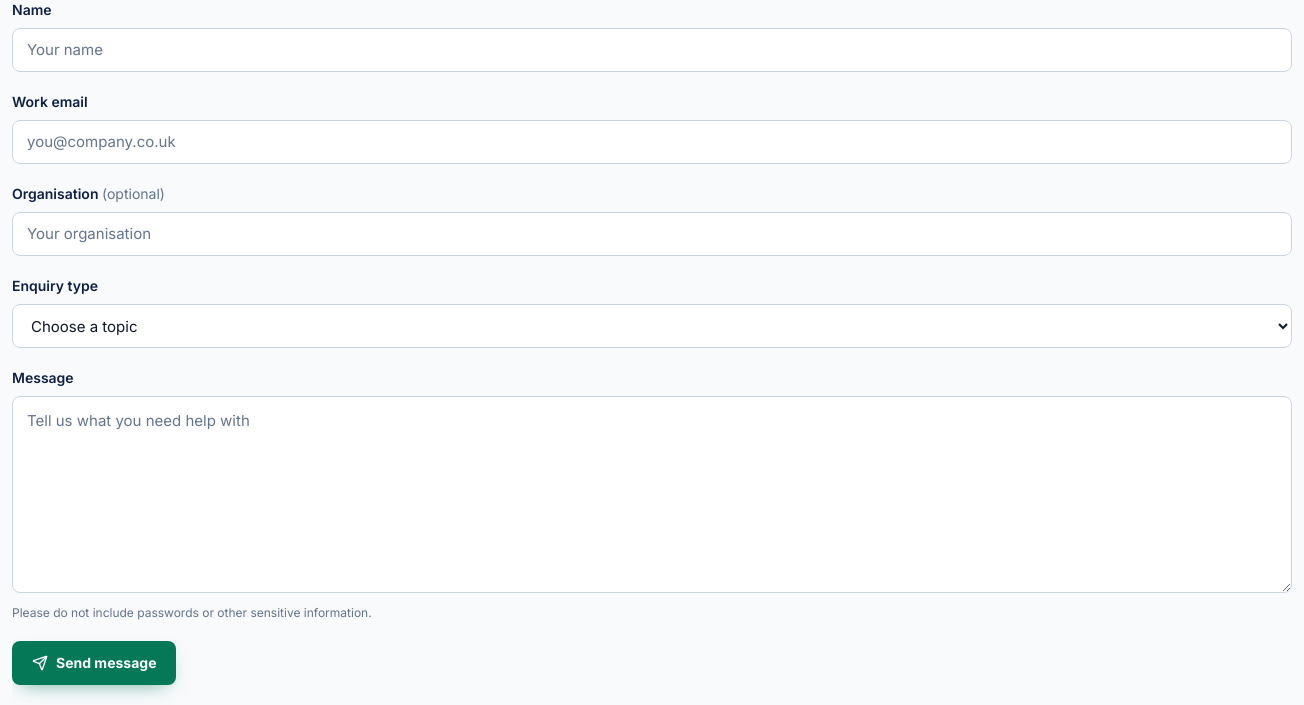
Test: ContactForm › announces success and resets the fields after delivery
In the field labelled "Name": x=652, y=50 [12, 28, 1292, 72], type "Aisha Rahman"
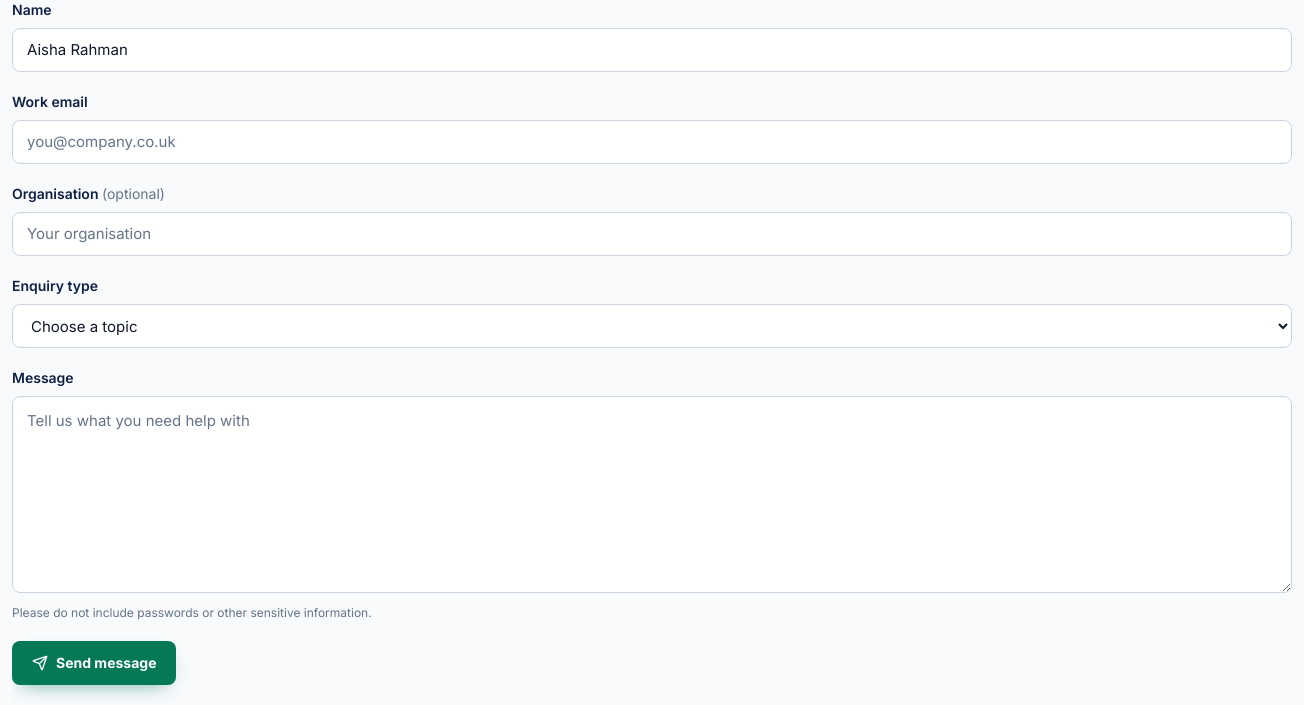
In the field labelled "Work email": x=652, y=142 [12, 120, 1292, 164], type "aisha@example.co.uk"
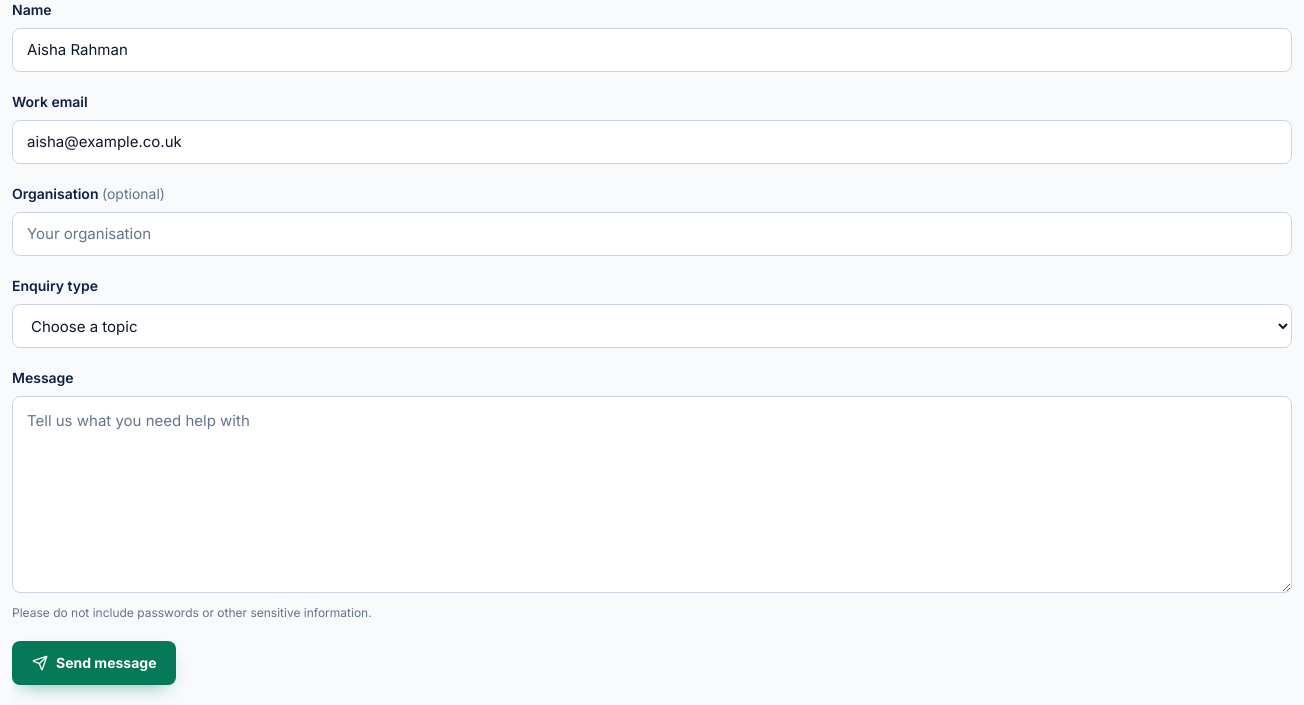
In the text box labelled "Message": x=652, y=494 [12, 396, 1292, 593], type "Please help us understand our latest readiness results."
(page scrolled)
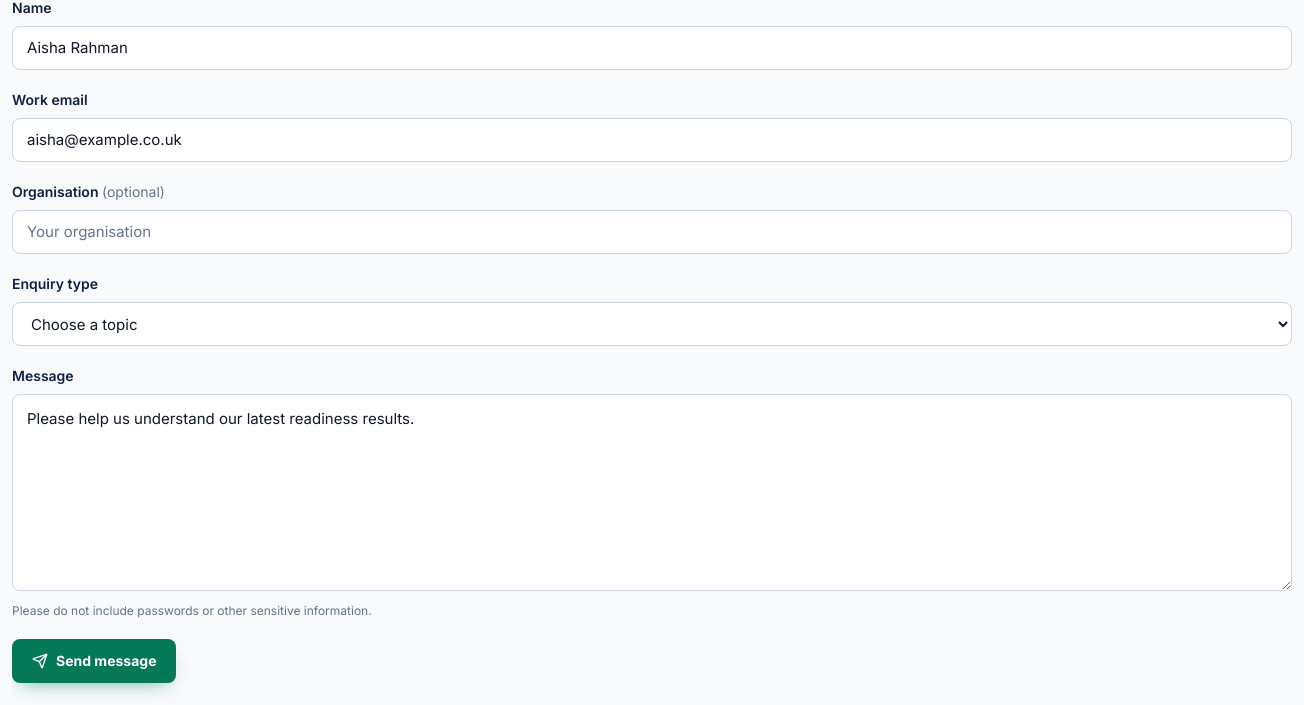
Submit the form named "Send message"
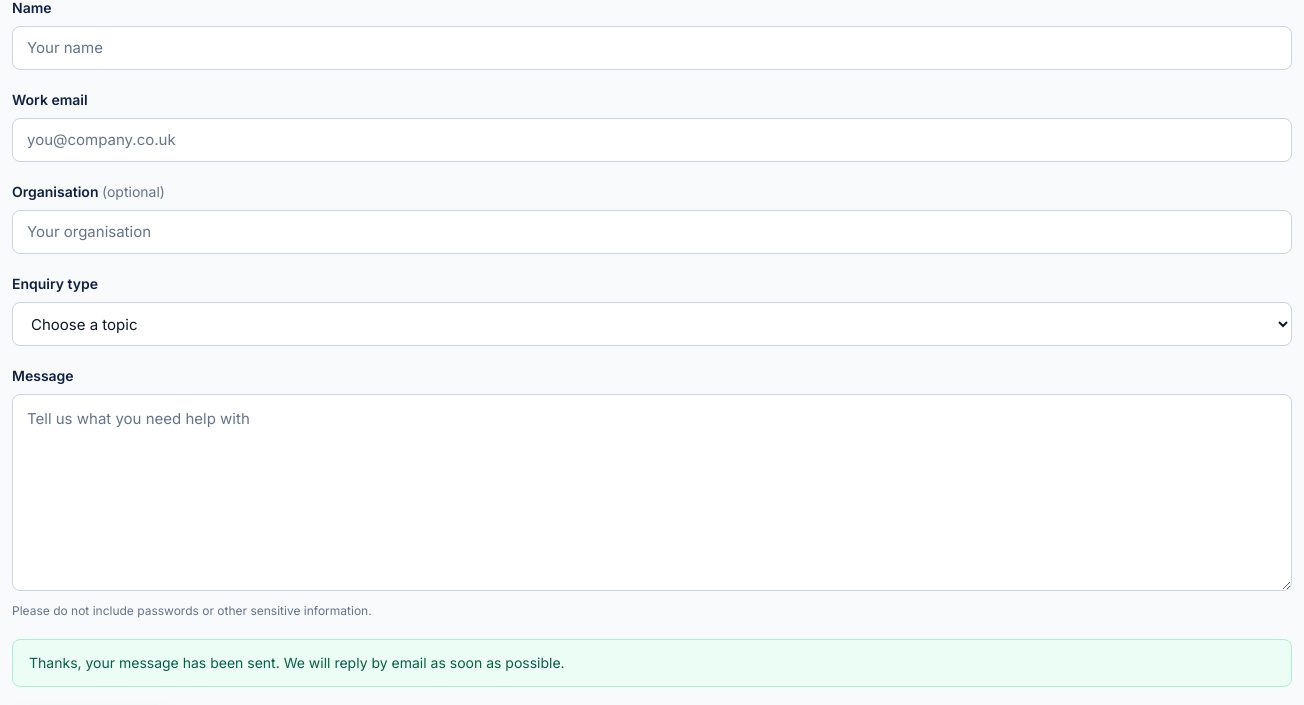
Expected: the message shows "Thanks, your message has been sent.", [29, 654, 565, 671]
Expected: the field labelled "Name" is empty, [12, 26, 1292, 70]
Expected: the field labelled "Work email" is empty, [12, 118, 1292, 162]
